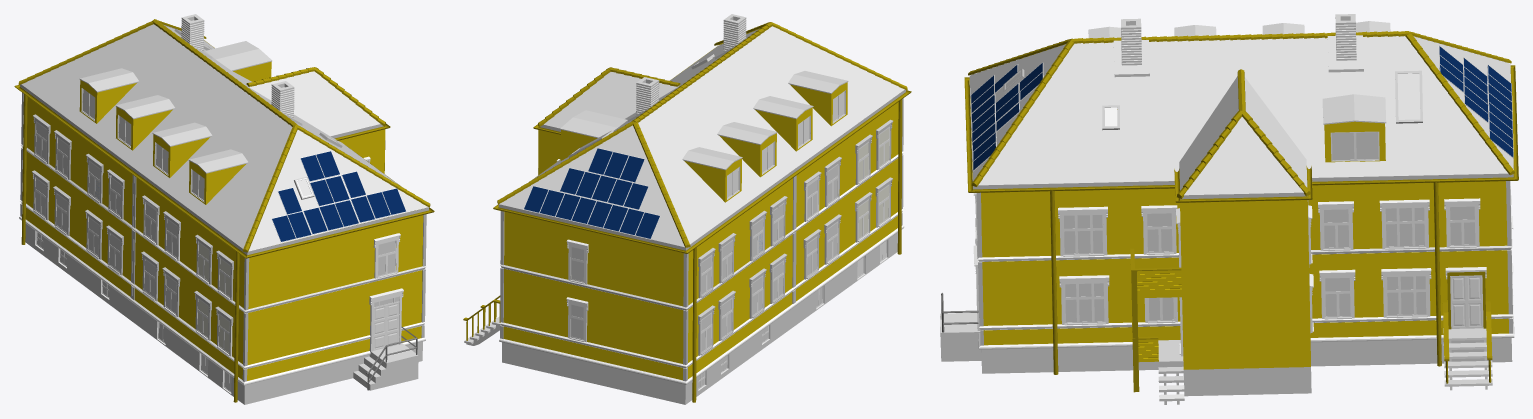
Rendered from house_panel_2_0011.glb.
The picture shows the model from 3 angles, left to right: view 1: azimuth 30°, elevation 25°; view 2: azimuth 150°, elevation 25°; view 3: azimuth 270°, elevation 25°; orthographic projection. The views are drawn at different scales.
Parts seen in each view (by area): view 1: SketchUp.874, SketchUp.871, SketchUp.865, SketchUp.002, SketchUp.511, SketchUp.484, SketchUp.001, SketchUp.872, SketchUp.015, SketchUp.057, SketchUp.052, SketchUp.734 (+33 smaller); view 2: SketchUp.874, SketchUp.871, SketchUp.002, SketchUp.865, SketchUp.511, SketchUp.484, SketchUp.001, SketchUp.872, SketchUp.057, SketchUp.052, SketchUp.734, SketchUp.522 (+30 smaller); view 3: SketchUp.871, SketchUp.874, SketchUp.868, SketchUp.865, SketchUp.002, SketchUp, SketchUp.511, SketchUp.872, SketchUp.734, SketchUp.057, SketchUp.484, SketchUp.019 (+30 smaller).
Part boxes in pixels (bbox=[...]): SketchUp.874: bbox=[25, 97, 423, 380]; SketchUp.871: bbox=[21, 24, 428, 251]; SketchUp.865: bbox=[249, 71, 380, 136]; SketchUp.002: bbox=[25, 224, 422, 404]; SketchUp.511: bbox=[14, 40, 434, 258]; SketchUp.484: bbox=[19, 216, 425, 385]; SketchUp.001: bbox=[109, 286, 199, 370]; SketchUp.872: bbox=[20, 84, 428, 255]; SketchUp.015: bbox=[353, 351, 418, 390]; SketchUp.057: bbox=[20, 200, 425, 369]; SketchUp.052: bbox=[21, 144, 426, 313]; SketchUp.734: bbox=[205, 41, 272, 71]; SketchUp.874: bbox=[503, 102, 898, 380]; SketchUp.871: bbox=[499, 26, 904, 247]; SketchUp.002: bbox=[502, 232, 897, 404]; SketchUp.865: bbox=[544, 72, 678, 128]; SketchUp.511: bbox=[493, 48, 911, 253]; SketchUp.484: bbox=[499, 225, 904, 384]; SketchUp.001: bbox=[770, 262, 857, 343]; SketchUp.872: bbox=[498, 89, 905, 250]; SketchUp.057: bbox=[499, 209, 903, 368]; SketchUp.052: bbox=[500, 153, 902, 310]; SketchUp.734: bbox=[560, 110, 627, 138]; SketchUp.522: bbox=[790, 82, 847, 126]; SketchUp.871: bbox=[969, 36, 1513, 185]; SketchUp.874: bbox=[981, 109, 1508, 345]; SketchUp.868: bbox=[1180, 200, 1310, 369]; SketchUp.865: bbox=[1179, 76, 1307, 195]; SketchUp.002: bbox=[981, 338, 1512, 373]; SketchUp: bbox=[1183, 366, 1311, 396]; SketchUp.511: bbox=[964, 65, 1518, 192]; SketchUp.872: bbox=[969, 77, 1513, 189]; SketchUp.734: bbox=[1322, 94, 1386, 124]; SketchUp.057: bbox=[975, 218, 1513, 330]; SketchUp.484: bbox=[975, 240, 1514, 349]; SketchUp.019: bbox=[1137, 270, 1181, 298].
Bounding box in the file's own units: 13.74 × 13.47 × 22.92.
